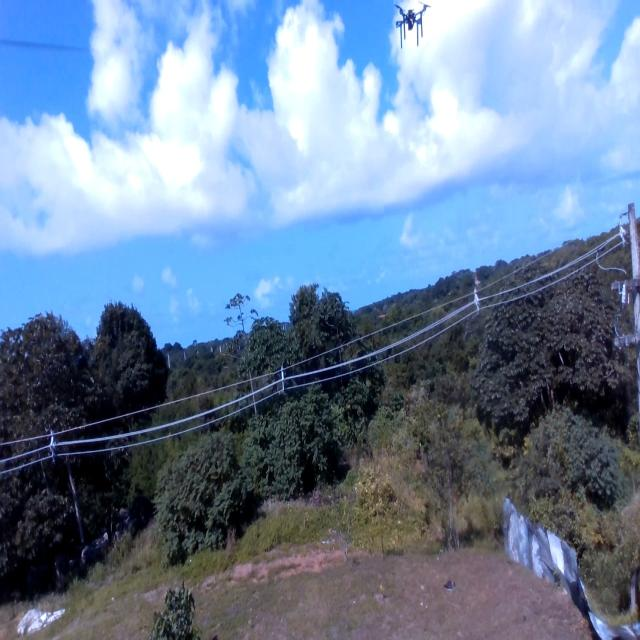-uav-: (387, 0, 434, 58)
